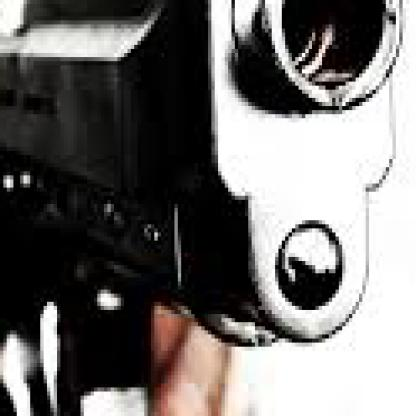gun: (134, 0, 413, 412)
